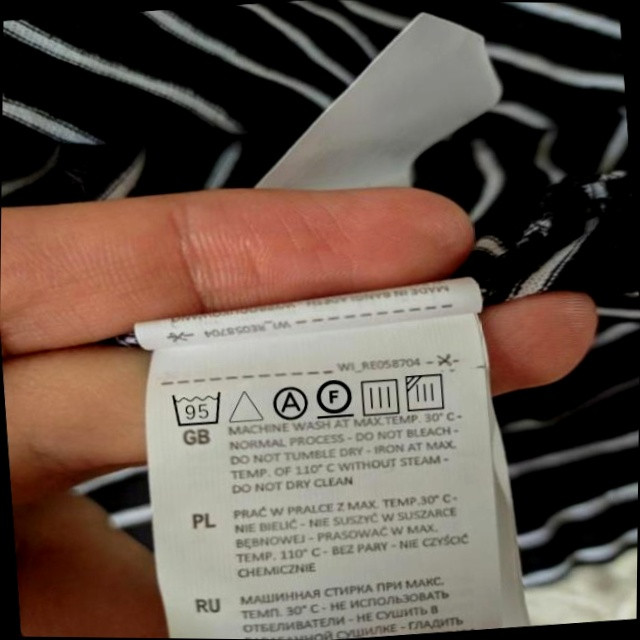95C: (169, 387, 226, 429)
bleach: (227, 384, 264, 427)
drip_dry: (358, 374, 403, 418)
drip_dry_in_shade: (404, 370, 451, 416)
dry_clean: (269, 384, 309, 422)
dry_clean_petrol_only: (314, 374, 355, 421)
